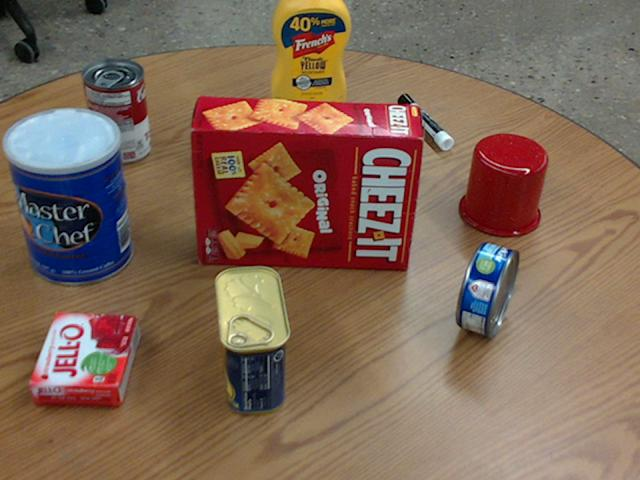cracker_box: (192, 96, 422, 270)
gelatin_box: (28, 312, 137, 404)
large_marker: (399, 93, 453, 149)
master_chef_can: (4, 108, 131, 285)
mug: (457, 133, 546, 235)
mustard_bottle: (271, 0, 350, 111)
potted_meat_can: (213, 265, 287, 412)
sugar_box: (204, 104, 361, 182)
tomato_soup_can: (82, 58, 150, 162)
tuna_fish_can: (457, 241, 517, 336)
